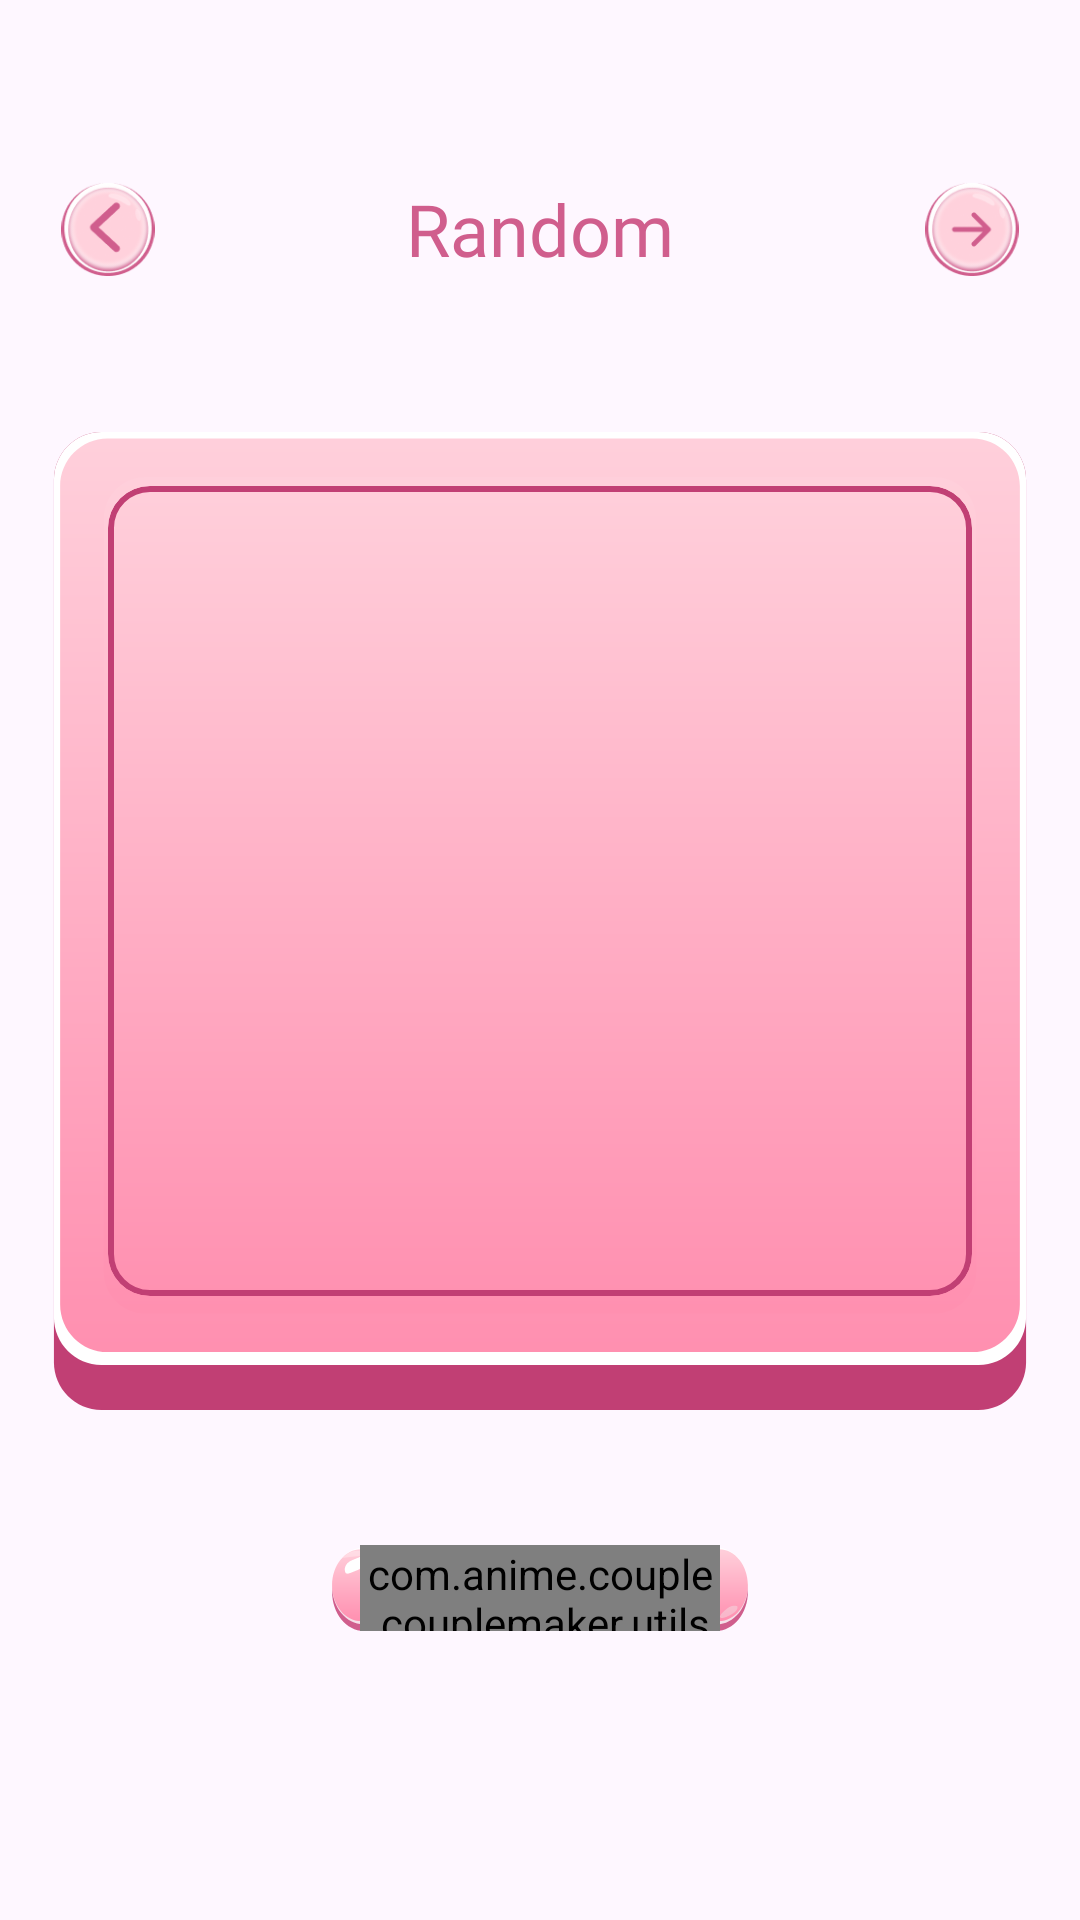

Named icons in this screenshot (1080×1920) and their centers, (x,y):
back app: (108,231)
next: (972,231)
